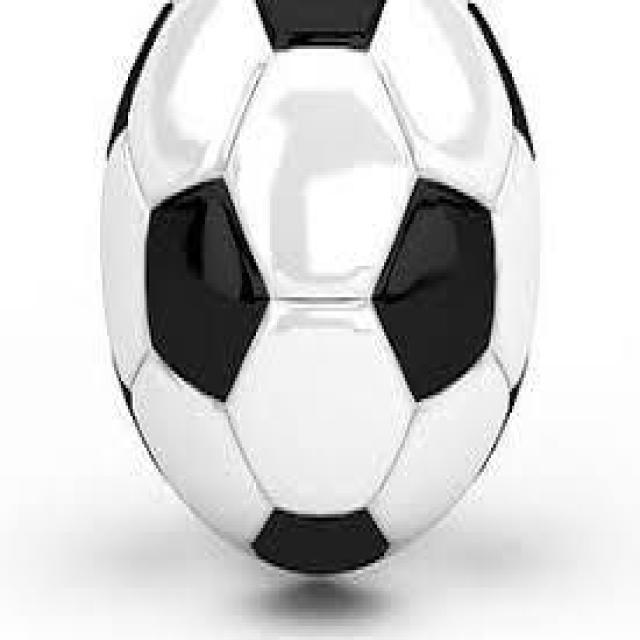Soccer Ball: (98, 3, 533, 580)
